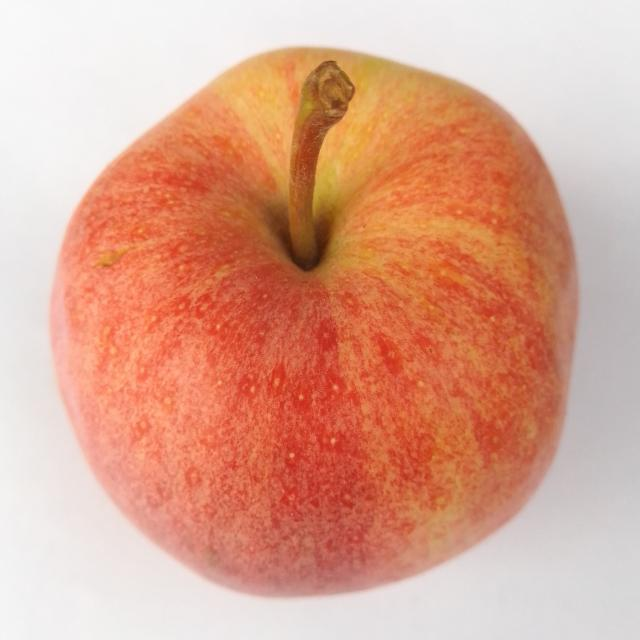Fresh Apple: (30, 40, 585, 603)
